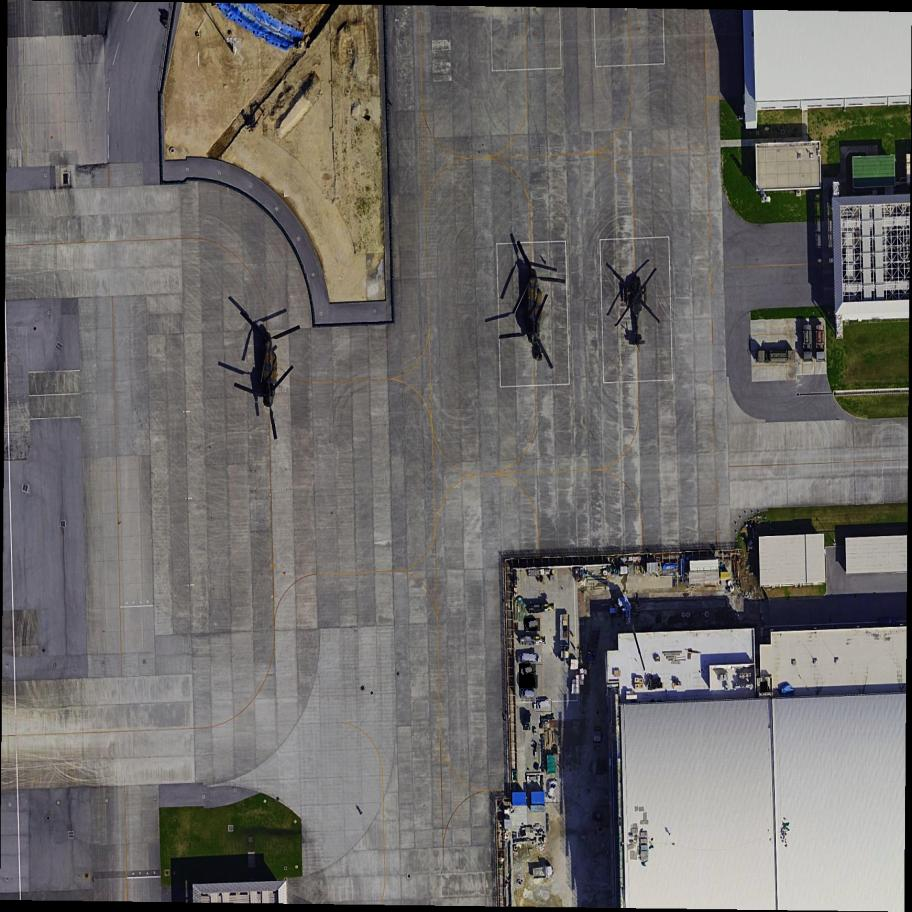large-vehicle: (518, 653, 543, 665)
small-vehicle: (545, 778, 562, 804), (524, 618, 542, 632), (519, 664, 537, 678), (521, 710, 533, 729), (537, 700, 553, 713), (521, 690, 537, 702), (520, 676, 537, 687)
